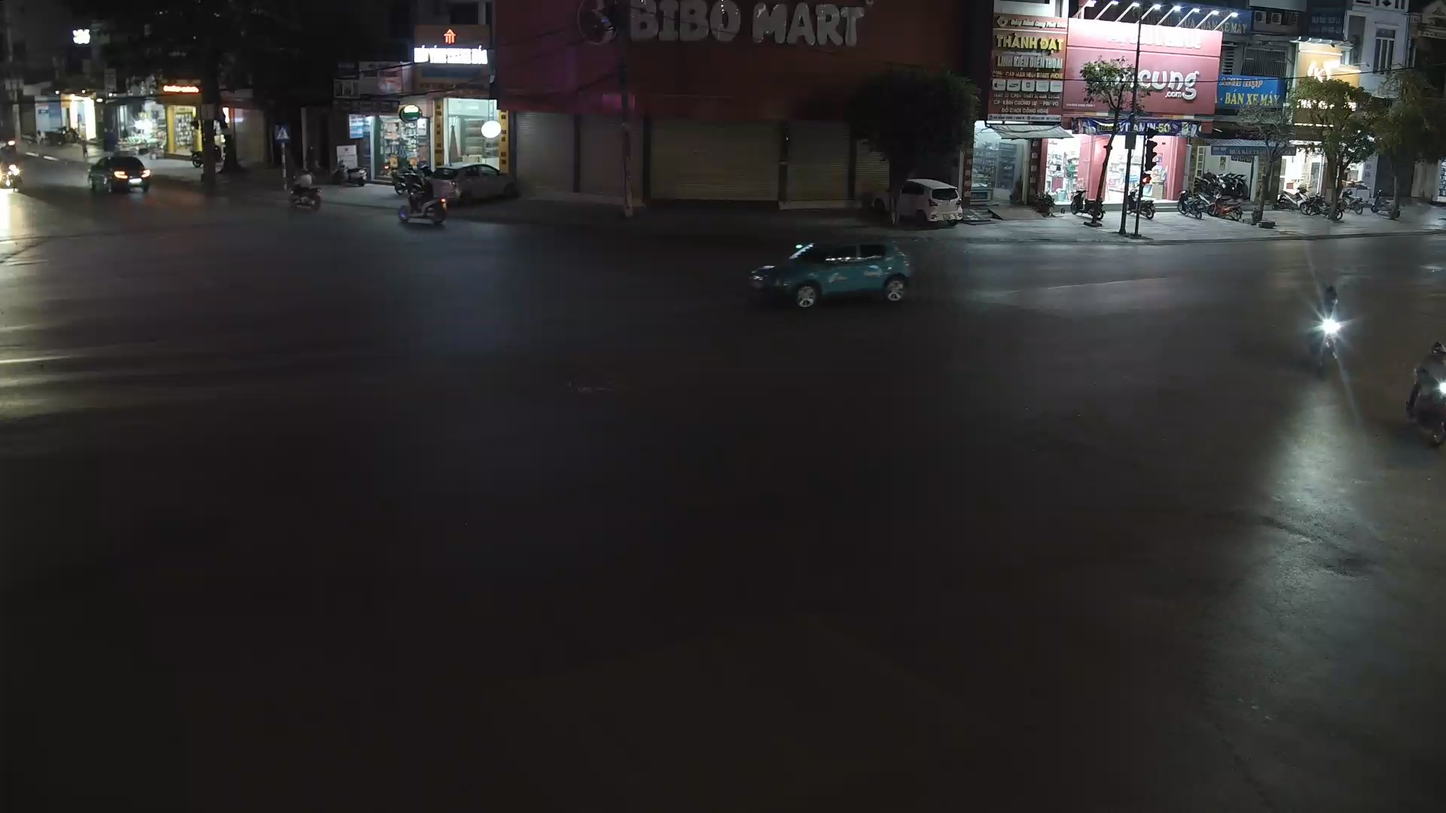car: (748, 235, 912, 309), (1404, 336, 1445, 449)
motorbike: (1300, 276, 1353, 374), (397, 164, 450, 230)
